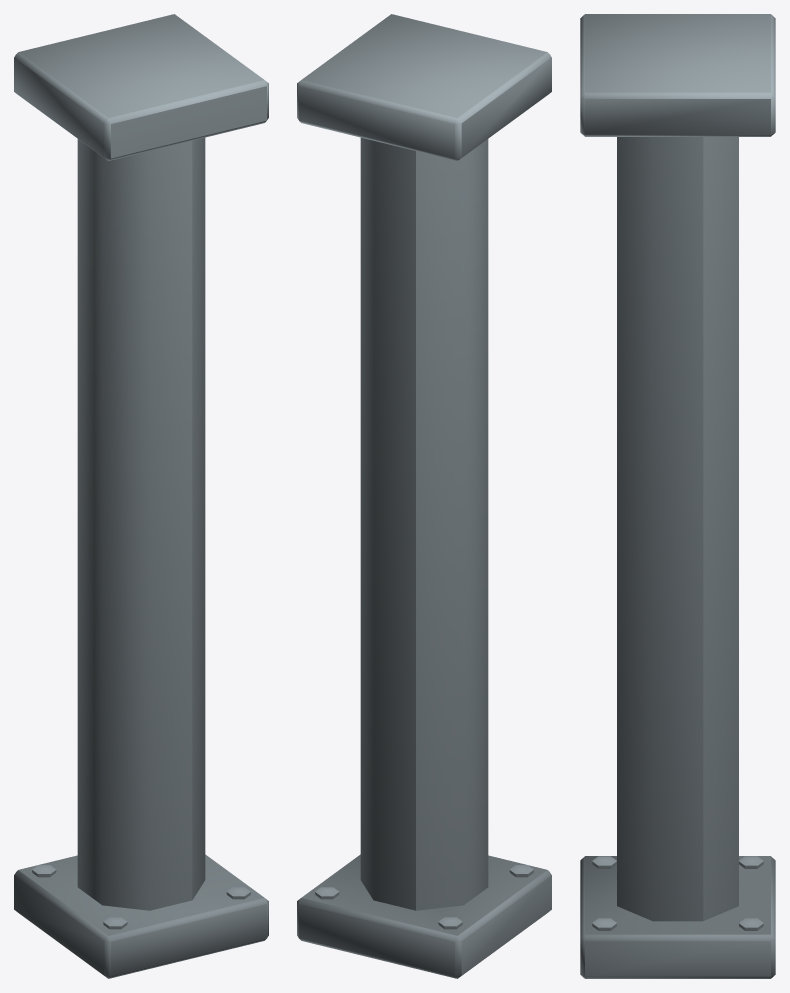
Rendered from pillar-1x1x4.glb.
3 renders of one model, left to right at view 1: azimuth 30°, elevation 25°; view 2: azimuth 150°, elevation 25°; view 3: azimuth 270°, elevation 25°, orthographic. The views are drawn at different scales.
Visible parts, largest first — view 1: pillar_1x1x4; view 2: pillar_1x1x4; view 3: pillar_1x1x4.
Part boxes in pixels (bbox=[...]): pillar_1x1x4: bbox=[14, 14, 268, 978]; pillar_1x1x4: bbox=[297, 14, 551, 978]; pillar_1x1x4: bbox=[580, 14, 775, 978].
Bounding box in the file's own units: 0.8 × 4 × 0.8.
1 material, 1 textured.
